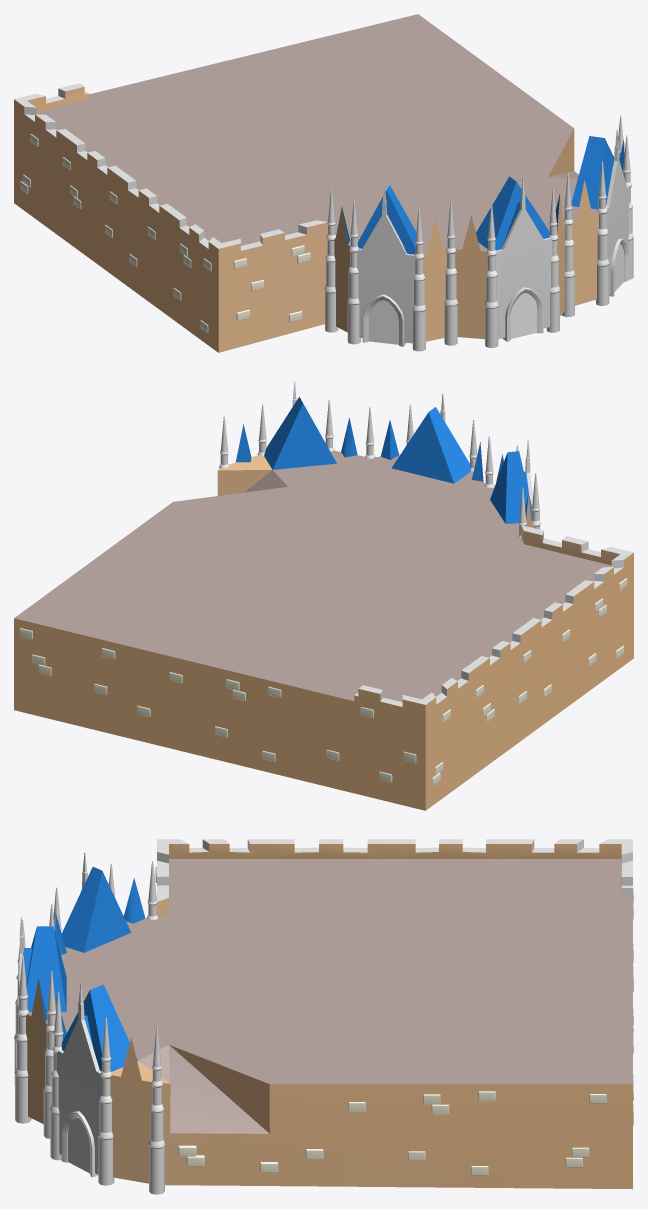
The model's file is castle_001.gltf.
3 views of the same model, one above another, from view 1: azimuth 30°, elevation 25°; view 2: azimuth 150°, elevation 25°; view 3: azimuth 270°, elevation 25° (orthographic). The views are drawn at different scales.
Parts seen in each view (by area): view 1: castle_001; view 2: castle_001; view 3: castle_001.
Part boxes in pixels (x1,y1,x2,y2): castle_001: [14, 14, 633, 352]; castle_001: [14, 381, 633, 810]; castle_001: [14, 839, 633, 1194].
Bounding box in the file's own units: 18.48 × 6.97 × 20.83.
2 materials, 1 textured.
